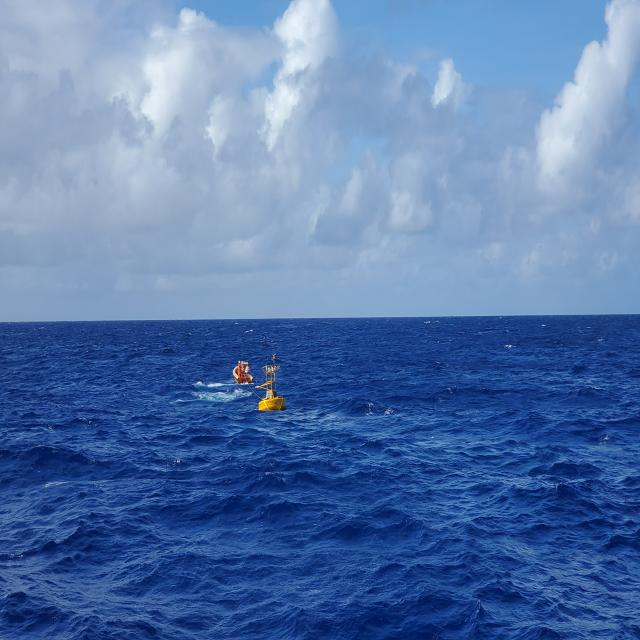buoy: (256, 356, 287, 416)
houseboat: (232, 357, 255, 384)
